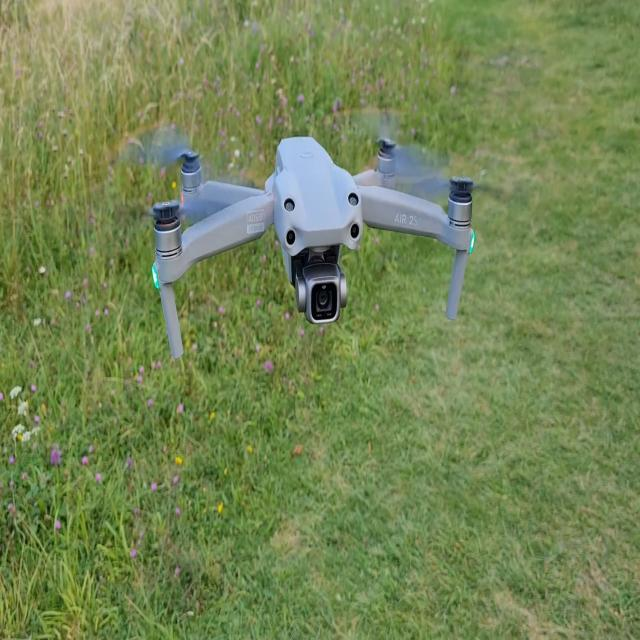drone: (120, 127, 477, 360)
